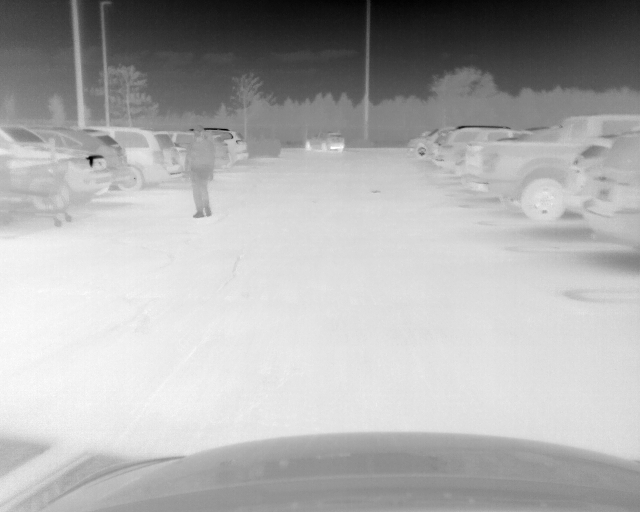car: (461, 113, 640, 225), (1, 125, 110, 214), (580, 130, 640, 258), (36, 125, 129, 203), (104, 125, 184, 191), (434, 126, 534, 172), (171, 131, 229, 176), (207, 129, 249, 173), (406, 126, 459, 160), (304, 130, 347, 155)
people: (185, 125, 217, 217)
